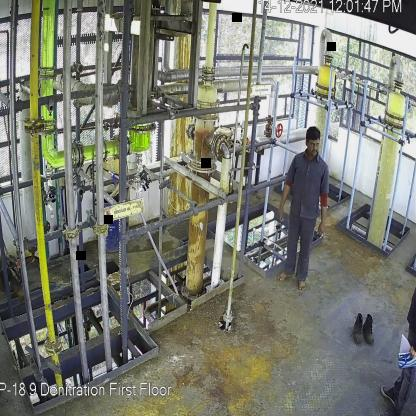no_shoes: (276, 272, 292, 282), (296, 280, 306, 293)
shoes: (352, 312, 366, 345), (363, 314, 376, 344)
